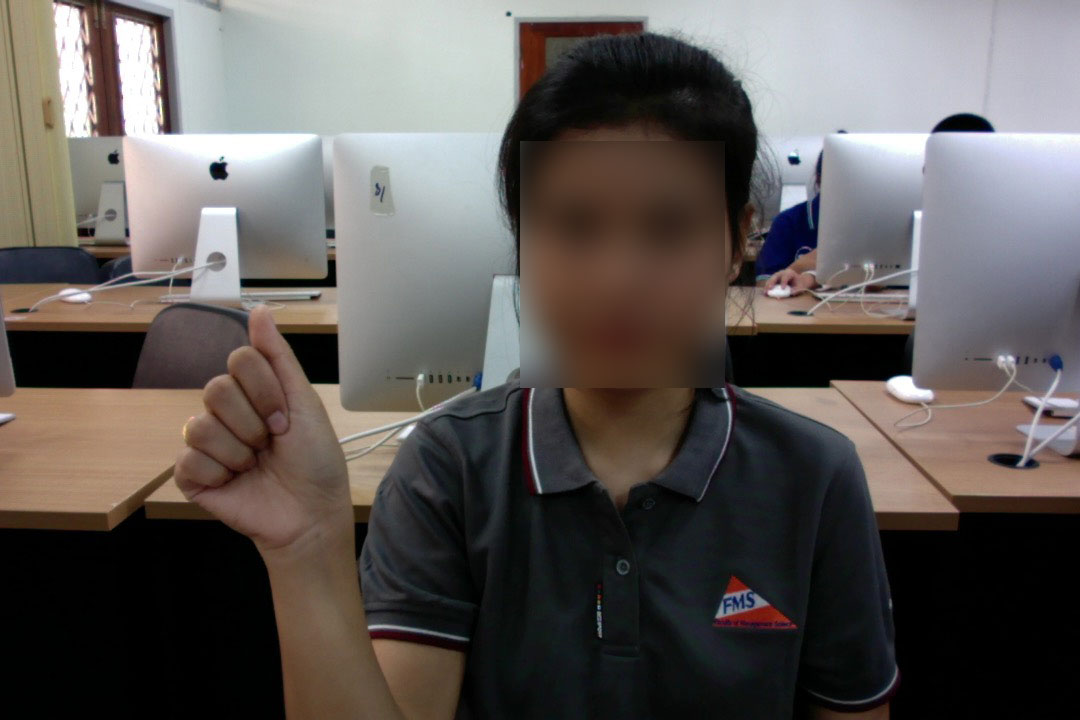or: (165, 300, 363, 574)
